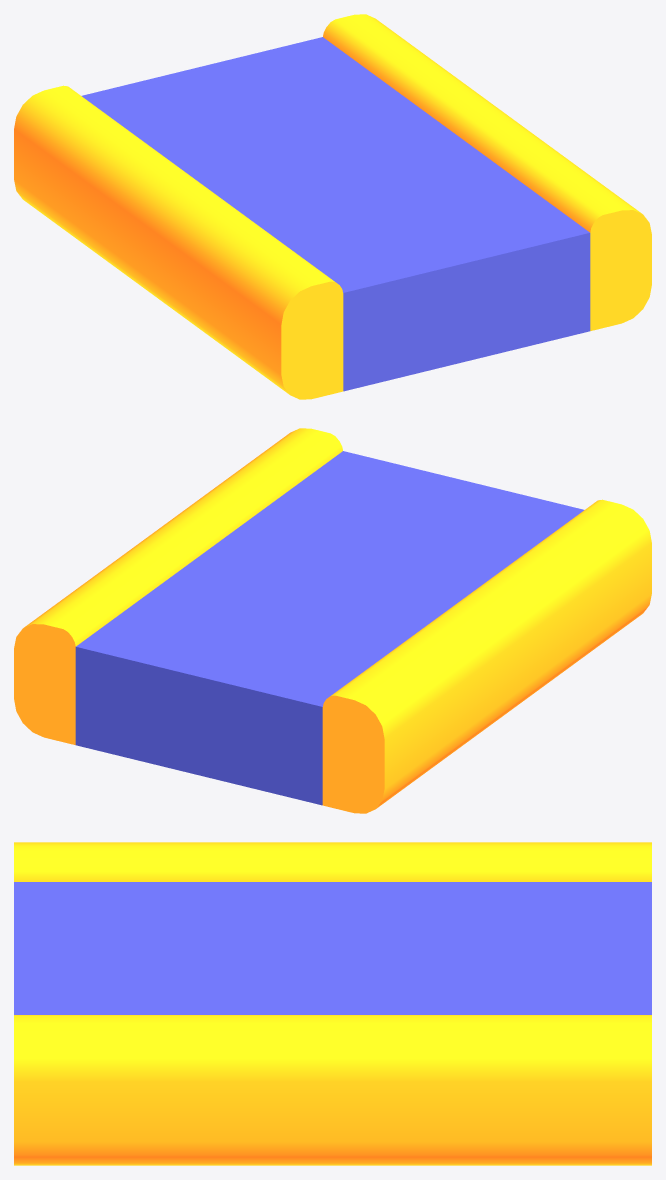
The model's file is conveyor_straight_yellow.fbx.
The picture shows the model from 3 angles, top to bottom: view 1: azimuth 30°, elevation 25°; view 2: azimuth 150°, elevation 25°; view 3: azimuth 270°, elevation 25°; orthographic projection. The views are drawn at different scales.
Visible parts, largest first — view 1: Cube.024; view 2: Cube.024; view 3: Cube.024.
Boxes of the visible parts, bbox=[...] form: Cube.024: bbox=[14, 14, 651, 399]; Cube.024: bbox=[14, 428, 651, 813]; Cube.024: bbox=[14, 842, 651, 1165].
Bounding box in the file's own units: 240 × 70 × 300.
